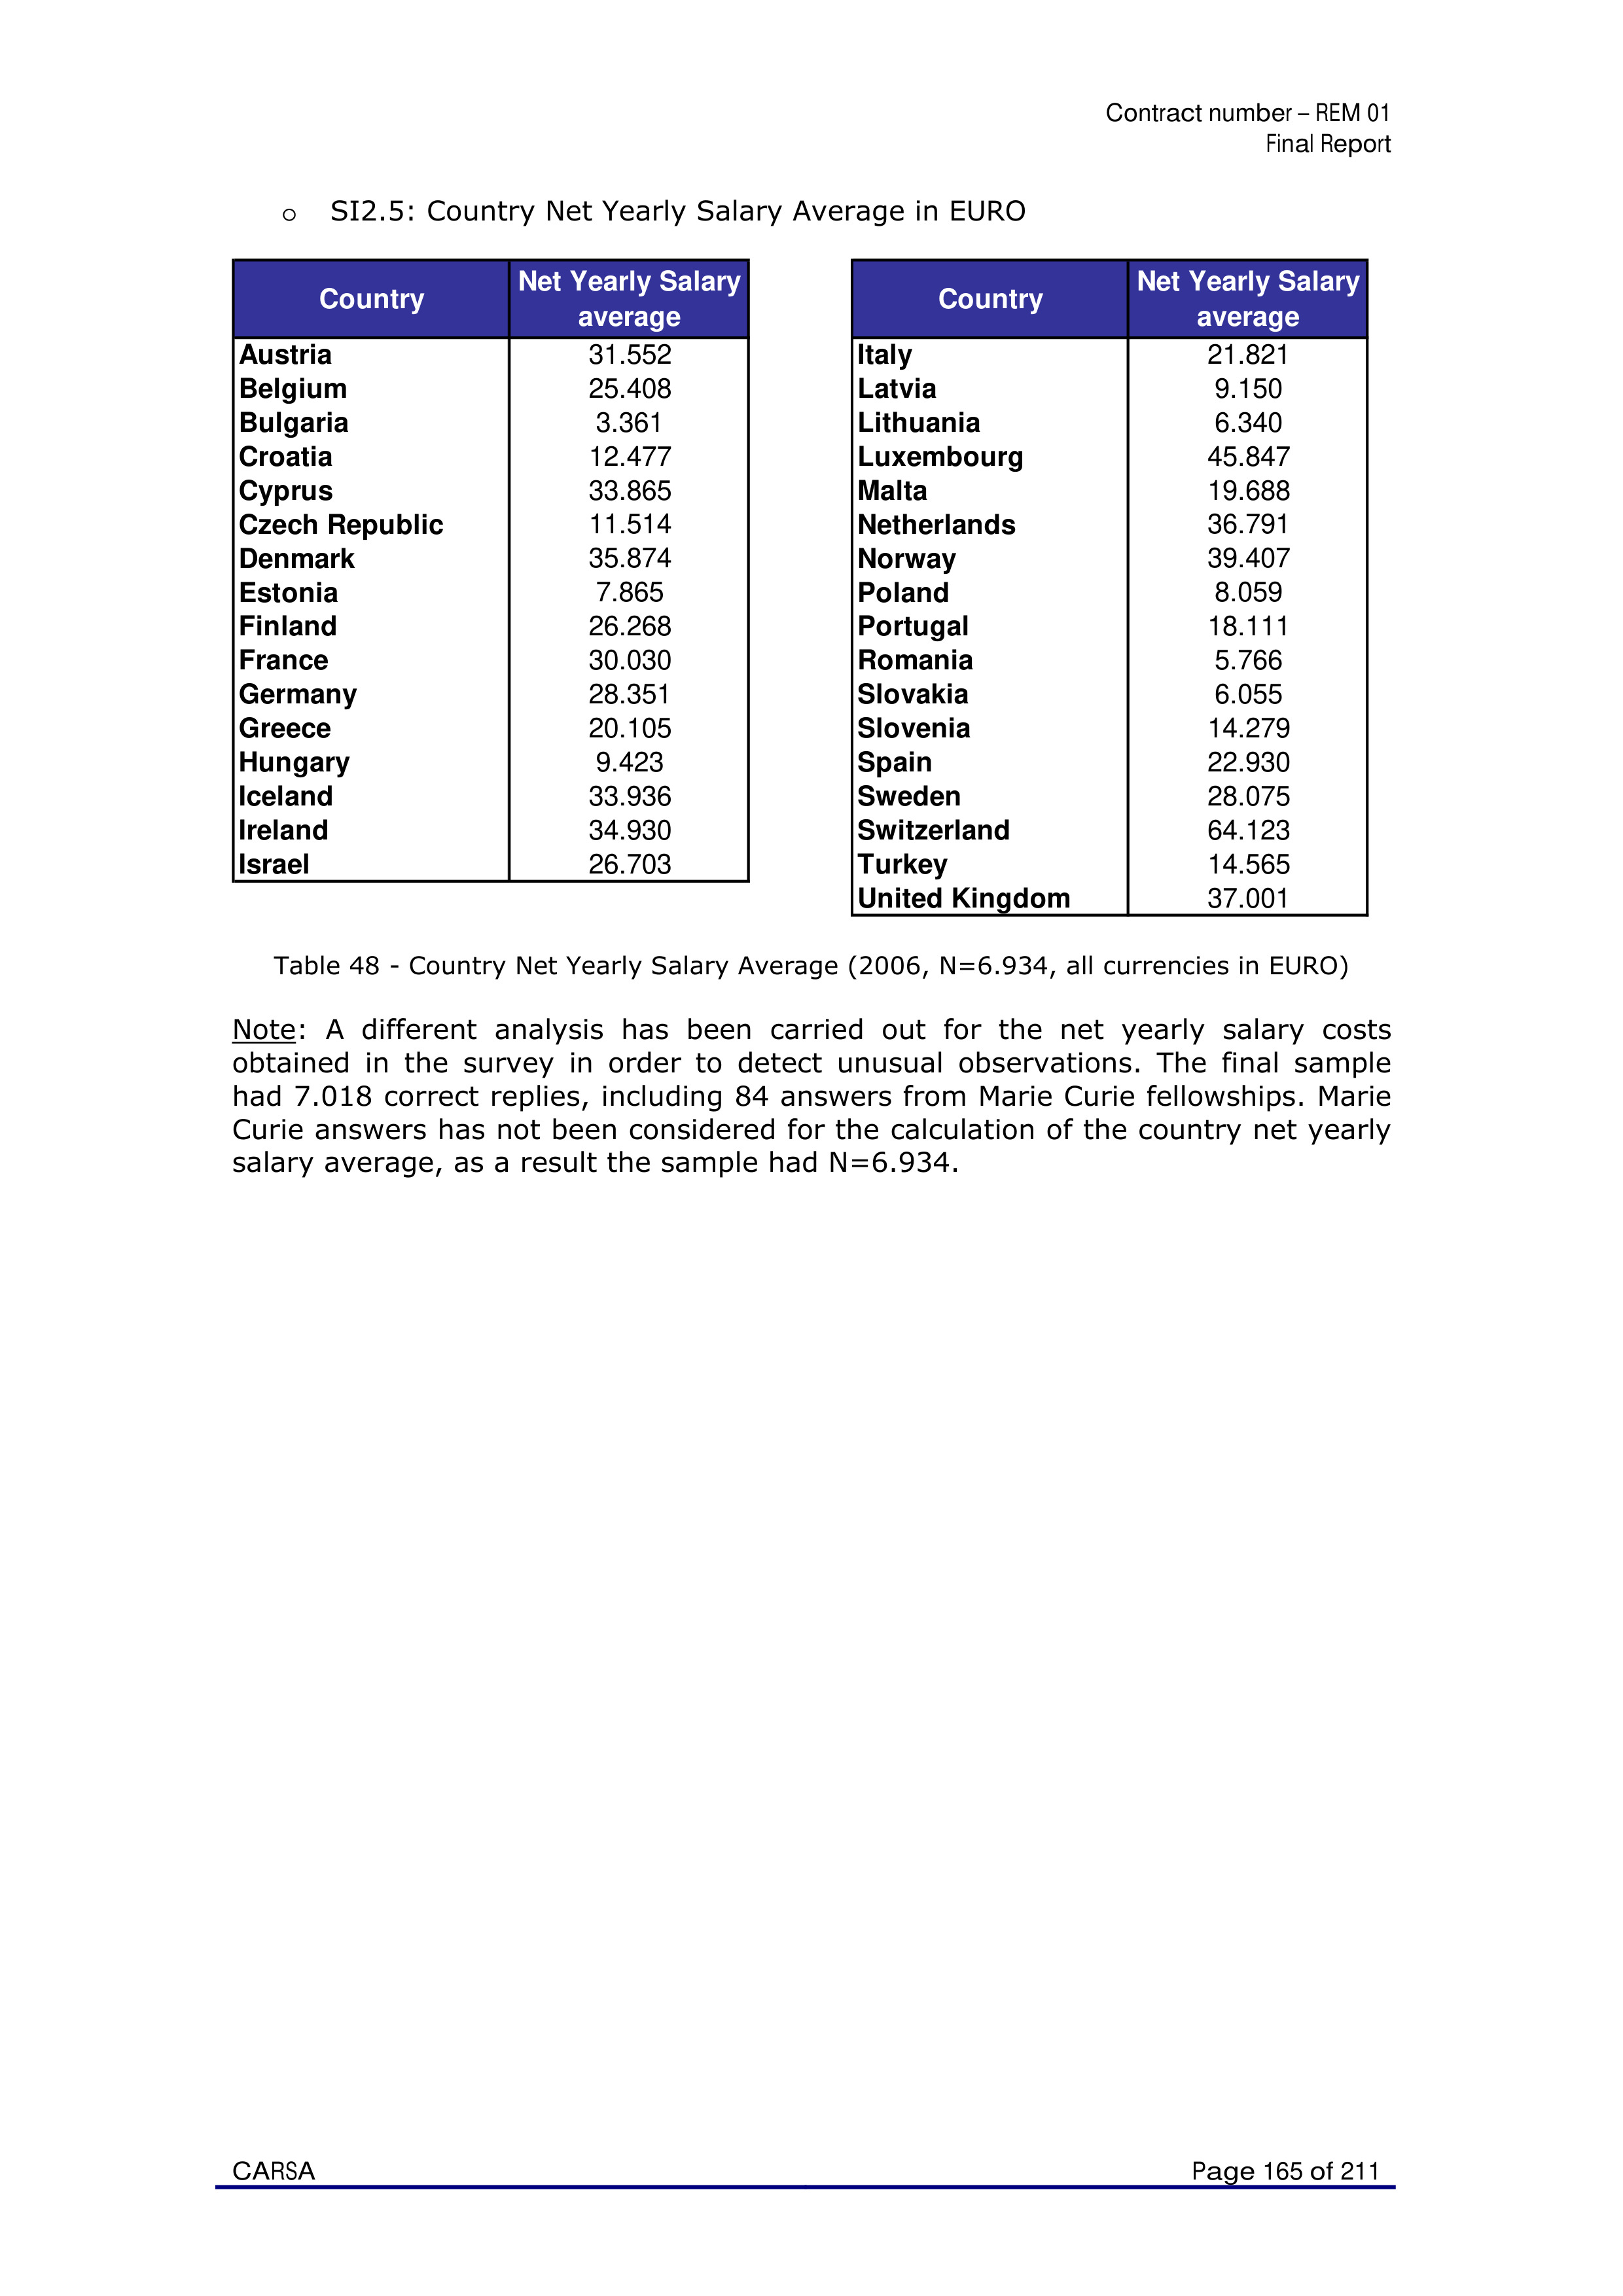table: (857, 262, 1361, 916), (239, 262, 741, 881)
